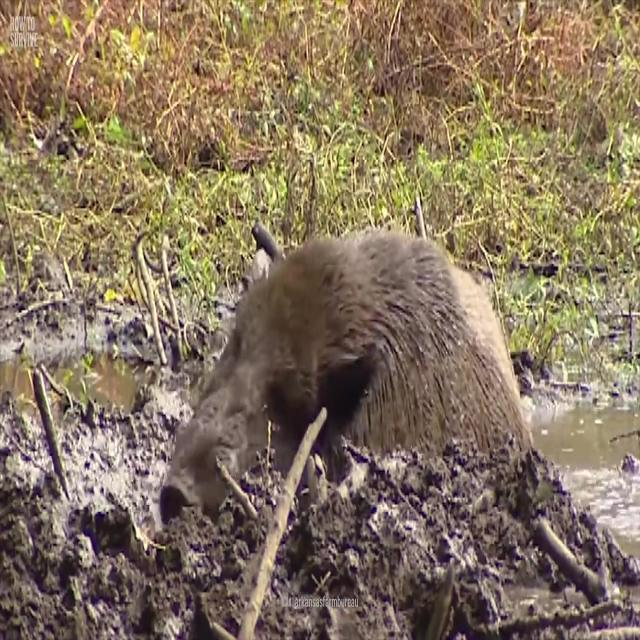pig: (140, 199, 543, 517)
